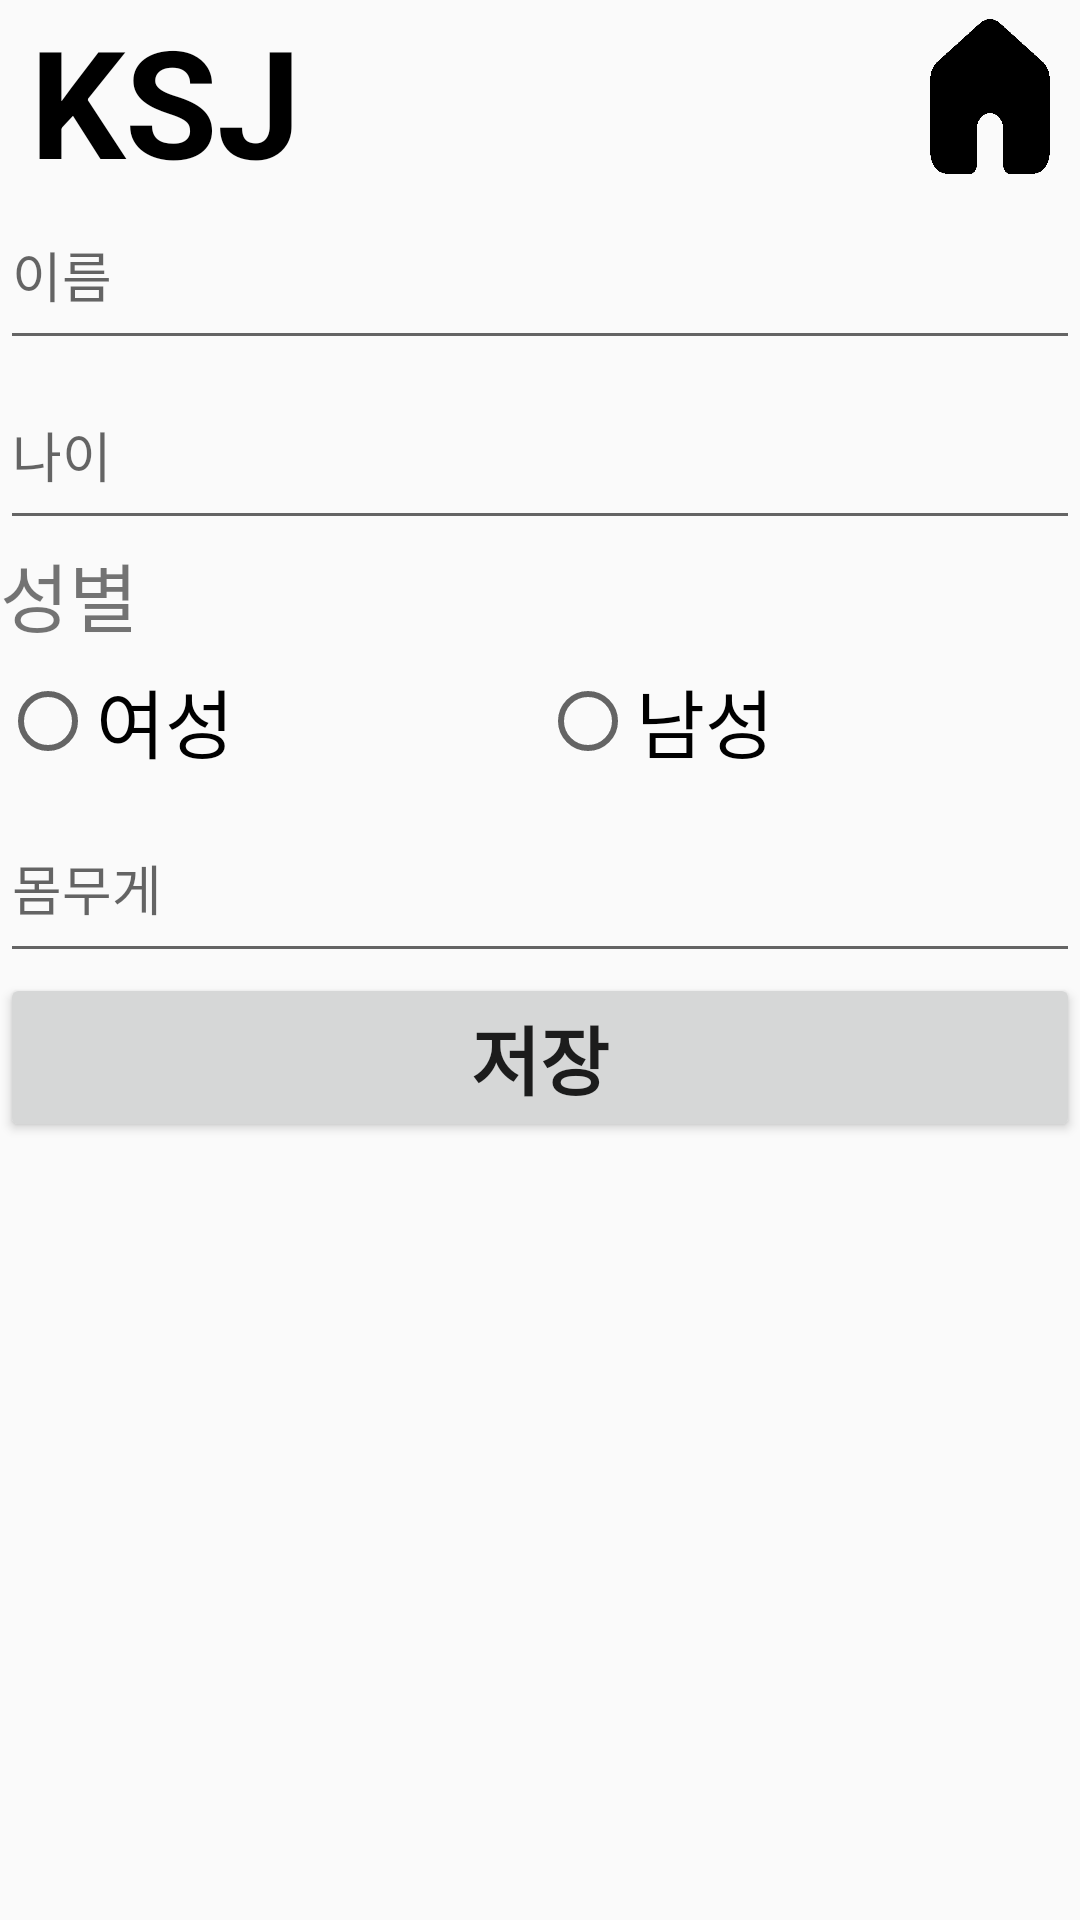

Icons on this 1080*1920 Android screen, each with its box as (x1, y1, x2, y2):
btnhome: (930, 19, 1050, 174)
